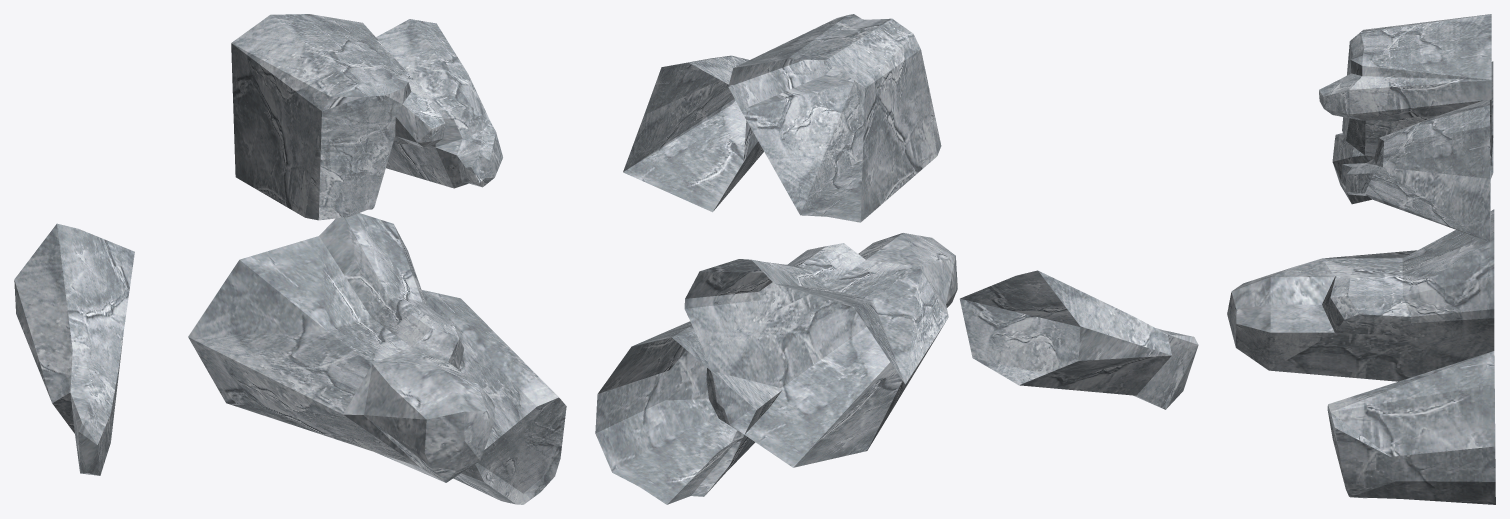
Rendered from rv_mod_col_cliff_stones.obj.
The picture shows the model from 3 angles, left to right: view 1: azimuth 30°, elevation 25°; view 2: azimuth 150°, elevation 25°; view 3: azimuth 270°, elevation 25°; orthographic projection. The views are drawn at different scales.
Visible parts, largest first — view 1: rv_mod_col_cliff_stones; view 2: rv_mod_col_cliff_stones; view 3: rv_mod_col_cliff_stones.
Boxes of the visible parts, x1,y1,x2,y2 form: rv_mod_col_cliff_stones: (14, 14, 566, 504); rv_mod_col_cliff_stones: (595, 14, 1198, 504); rv_mod_col_cliff_stones: (1227, 14, 1495, 504).
Bounding box in the file's own units: 10.21 × 9.19 × 5.36.
1 material, 1 textured.
